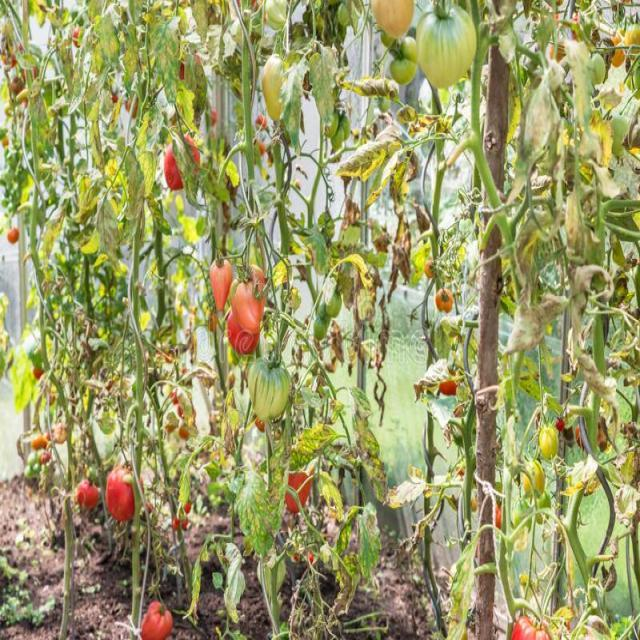kirmizi: (200, 278, 278, 346)
